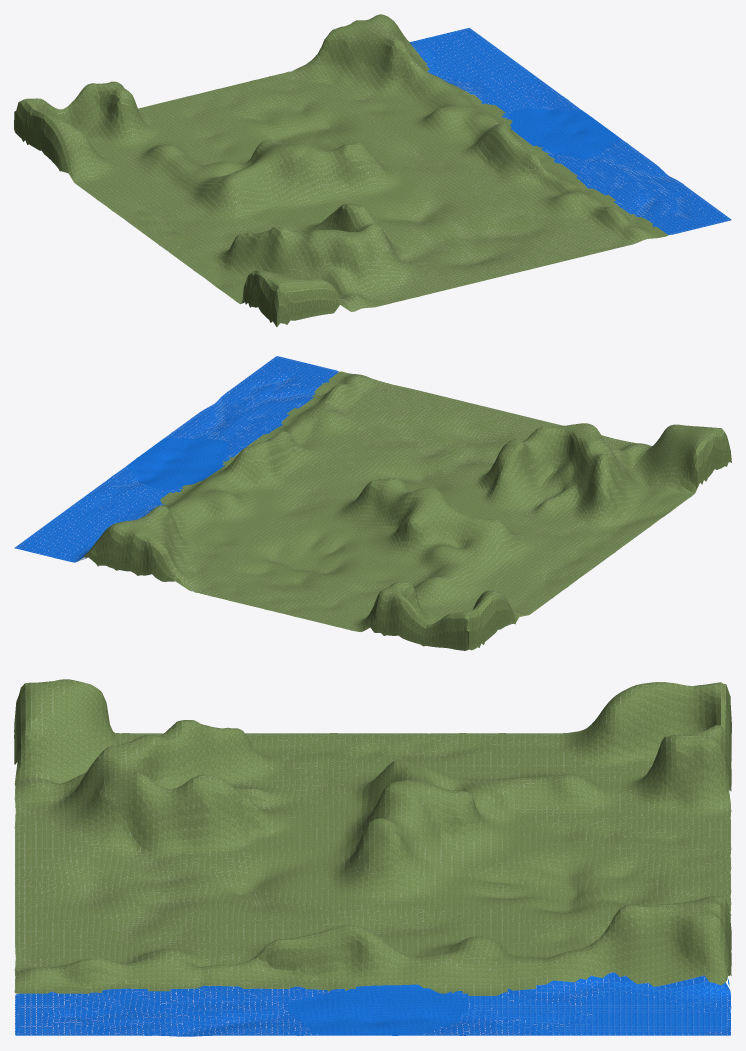
The model's file is mapadm2.obj.
The picture shows the model from 3 angles, top to bottom: view 1: azimuth 30°, elevation 25°; view 2: azimuth 150°, elevation 25°; view 3: azimuth 270°, elevation 25°; orthographic projection. The views are drawn at different scales.
Parts seen in each view (by area): view 1: Plano; view 2: Plano; view 3: Plano.
Part boxes in pixels (x1,y1,x2,y2): Plano: (14, 14, 731, 326); Plano: (14, 356, 731, 650); Plano: (14, 679, 731, 1036).
Bounding box in the file's own units: 332 × 34.38 × 332.
